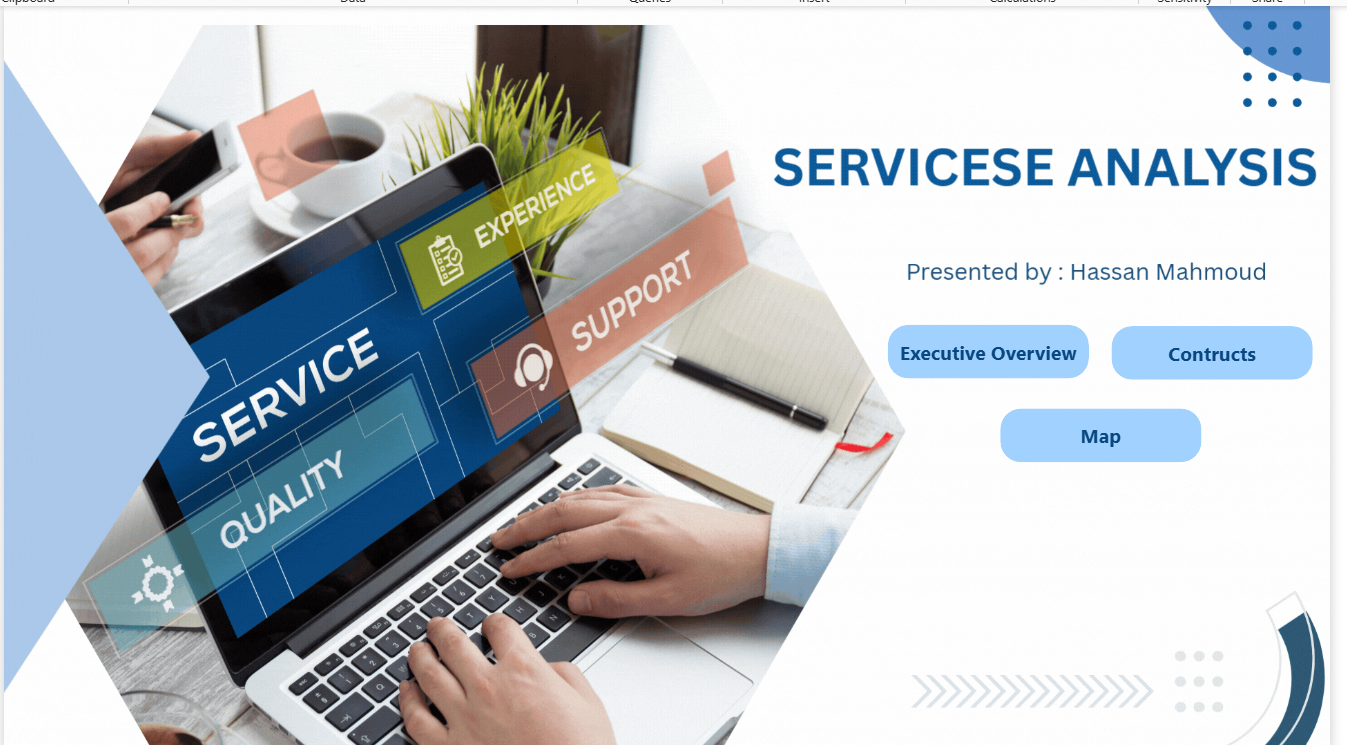

This screenshot's page, from the dashboard's own definition file:
{"tool":"powerbi","page":{"name":"Home ","canvas":[1280,720],"ordinal":1},"visuals":[{"type":"actionButton","box":[861.4,639.4,252.1,39.8],"z":0},{"type":"shape","box":[853,307.6,194.2,51.9],"z":1000},{"type":"shape","box":[1068.9,308.8,194.2,51.9],"z":2000},{"type":"shape","box":[961.5,388.5,194.2,51.9],"z":3000},{"type":"actionButton","box":[961.5,388.5,194.2,51.9],"z":4000},{"type":"actionButton","box":[853,307.6,194.2,51.9],"z":5000},{"type":"actionButton","box":[1068.9,308.8,194.2,51.9],"z":6000}]}

Visuals, with their boxes on the page's 1280x720 design canvas (x1, y1, x2, y2). These are canvas units, not pixel positions in the 1347x745 screenshot, which may show the page scaled, cropped or inside an application window:
actionButton: [left=861, top=639, right=1114, bottom=679]
shape: [left=853, top=308, right=1047, bottom=360]
shape: [left=1069, top=309, right=1263, bottom=361]
shape: [left=962, top=388, right=1156, bottom=440]
actionButton: [left=962, top=388, right=1156, bottom=440]
actionButton: [left=853, top=308, right=1047, bottom=360]
actionButton: [left=1069, top=309, right=1263, bottom=361]
